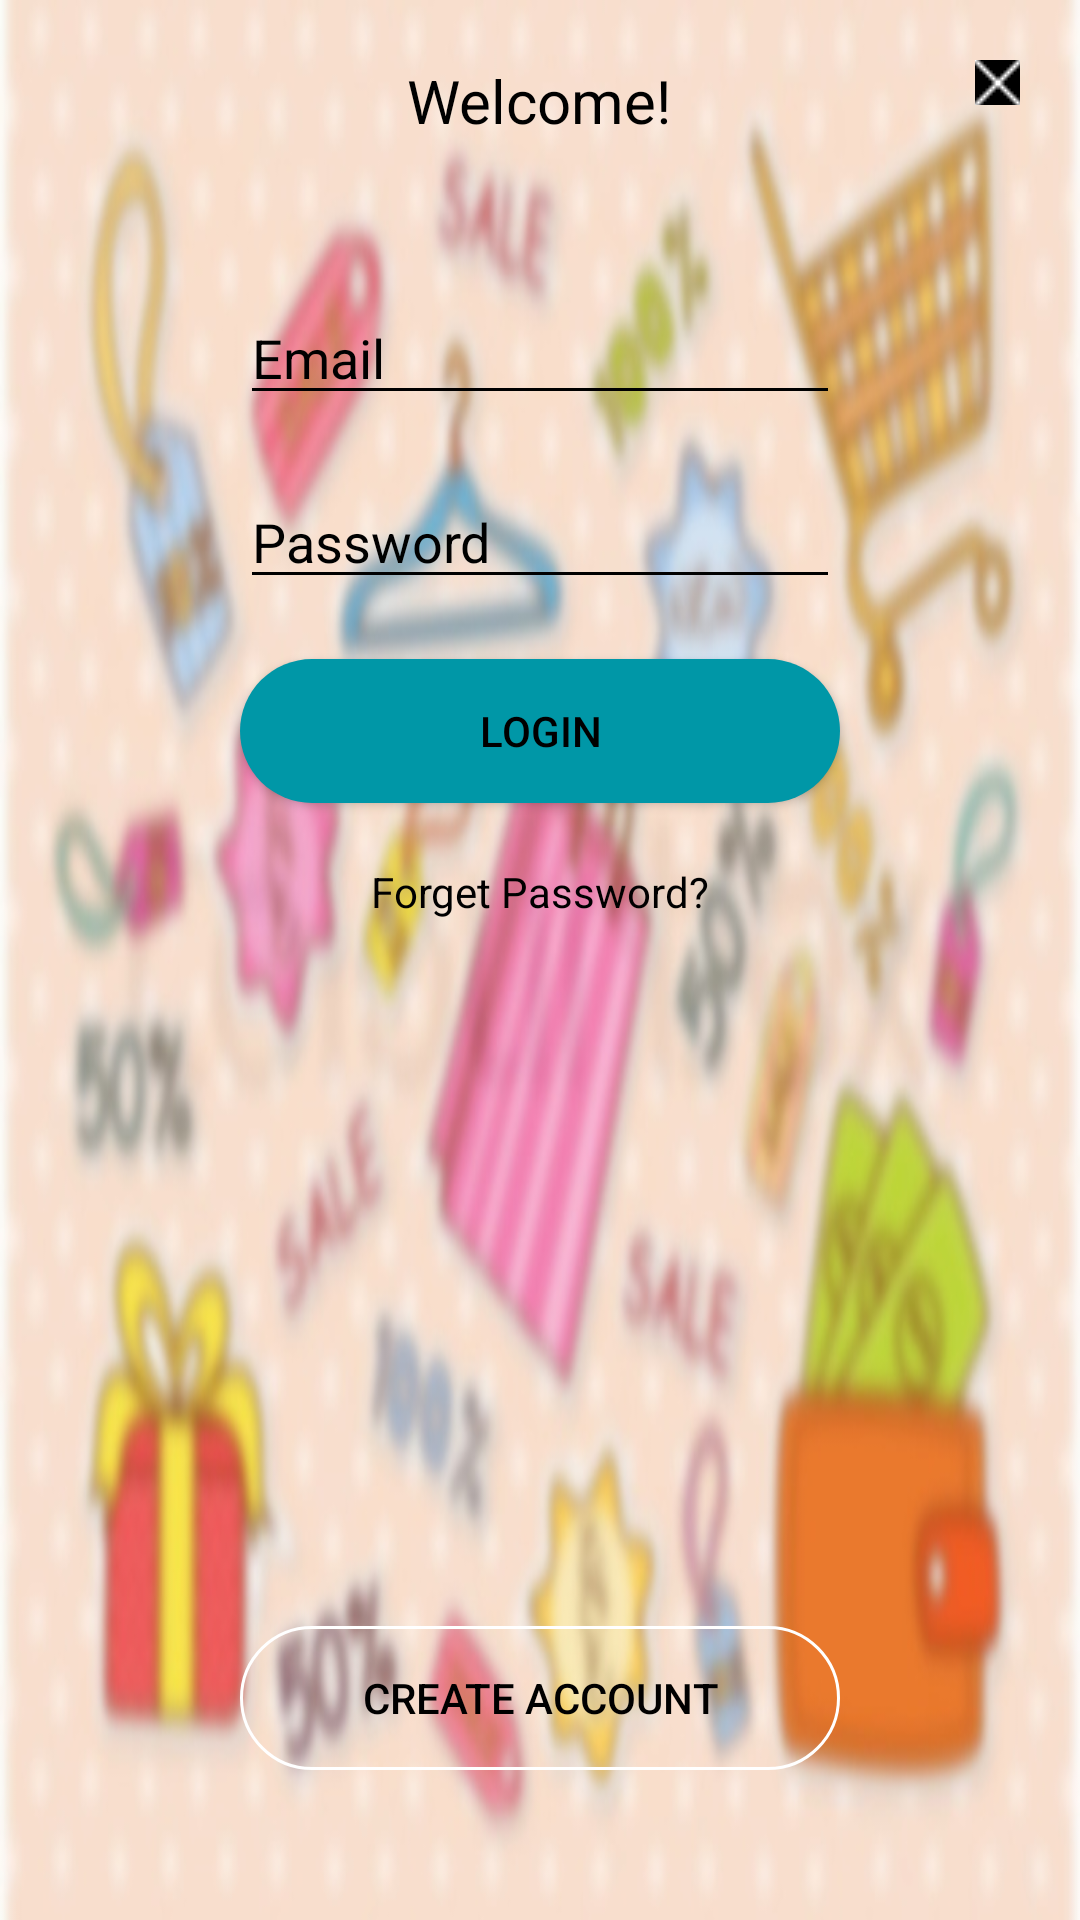

Where icons sit on this 1080px×1920px app screen, as BBox(x1, y1, x2, y2):
cross: BBox(975, 60, 1020, 105)
